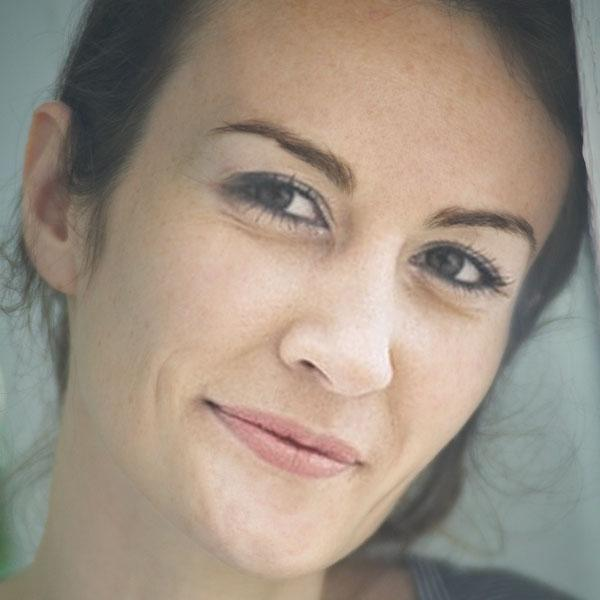Eyes: (209, 154, 337, 247), (398, 229, 508, 308)
